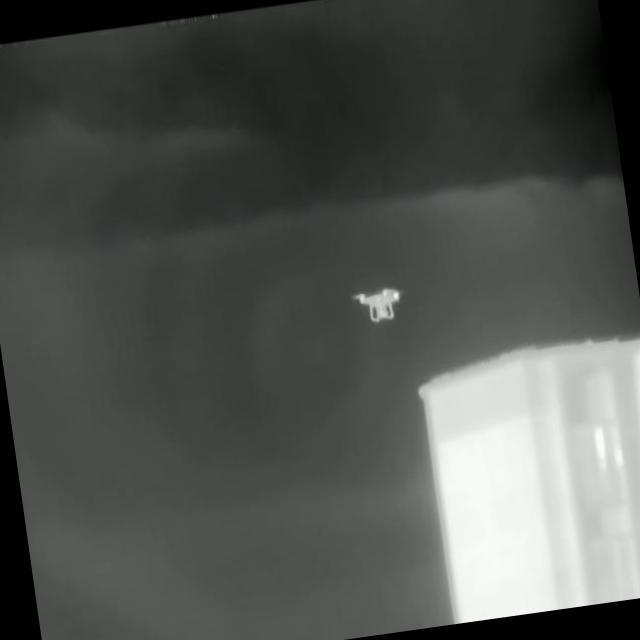DRONE: (349, 282, 408, 325)
